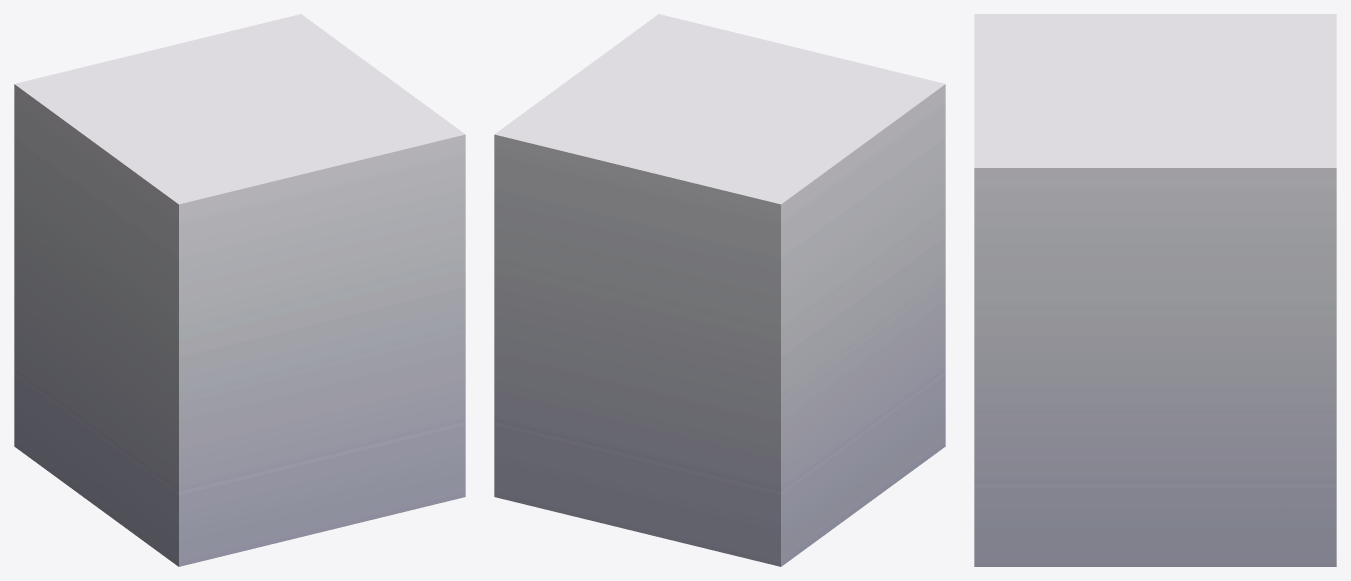
Rendered from none-lq-brick-1x1.glb.
3 renders of one model, left to right at view 1: azimuth 30°, elevation 25°; view 2: azimuth 150°, elevation 25°; view 3: azimuth 270°, elevation 25°, orthographic. The views are drawn at different scales.
Visible parts, largest first — view 1: none-lq-brick-1x1; view 2: none-lq-brick-1x1; view 3: none-lq-brick-1x1.
Part boxes in pixels (left/top/right/bottom): none-lq-brick-1x1: left=14, top=14, right=465, bottom=566; none-lq-brick-1x1: left=494, top=14, right=945, bottom=566; none-lq-brick-1x1: left=974, top=14, right=1336, bottom=566.
Bounding box in the file's own units: 0.0795 × 0.096 × 0.079.
Materials: 1 (1 with a texture image).
